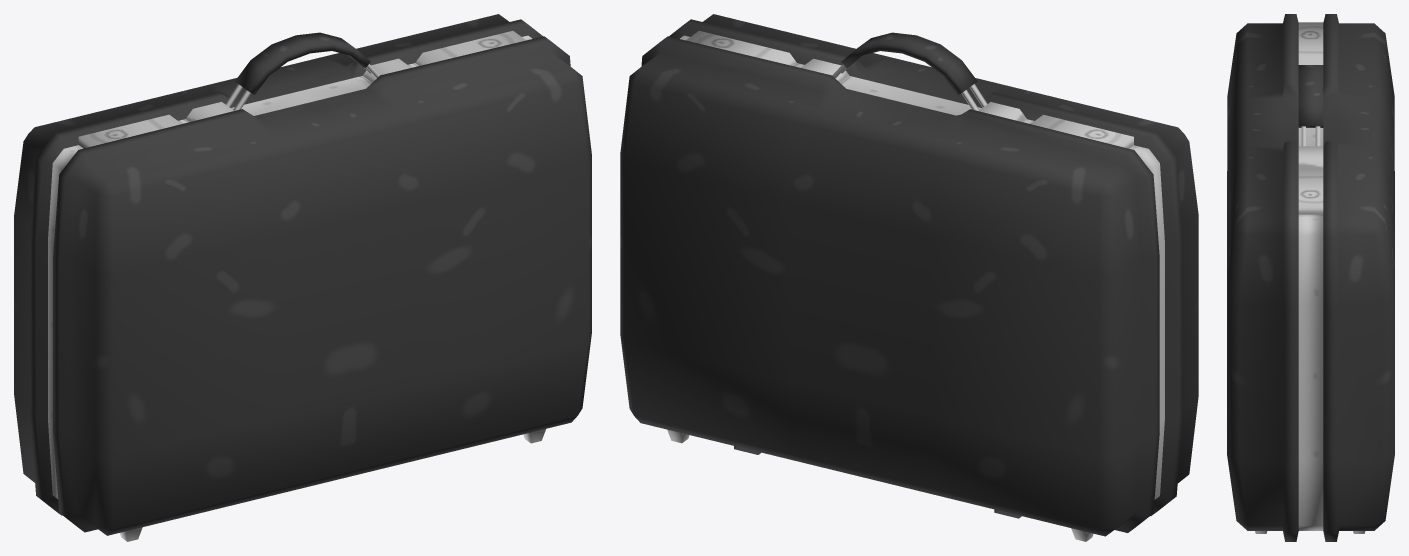
The model's file is obj_Suitcase3.fbx.
The picture shows the model from 3 angles, left to right: view 1: azimuth 30°, elevation 25°; view 2: azimuth 150°, elevation 25°; view 3: azimuth 270°, elevation 25°; orthographic projection. The views are drawn at different scales.
Parts seen in each view (by area): view 1: obj_Suitcase3; view 2: obj_Suitcase3; view 3: obj_Suitcase3.
Boxes of the visible parts, x1,y1,x2,y2 form: obj_Suitcase3: [14, 14, 591, 541]; obj_Suitcase3: [620, 14, 1198, 541]; obj_Suitcase3: [1227, 14, 1394, 541].
Size of the model in its own units: 0.6979 by 0.5524 by 0.225.
